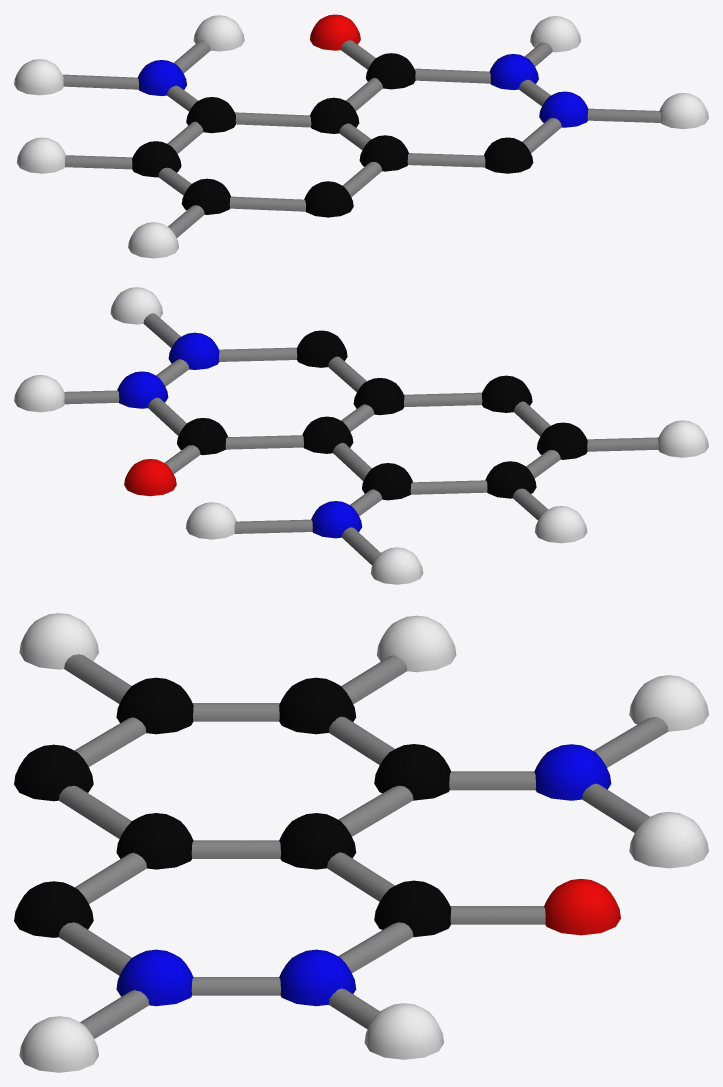
The model's file is Molecule.fbx.
The picture shows the model from 3 angles, top to bottom: view 1: azimuth 30°, elevation 25°; view 2: azimuth 150°, elevation 25°; view 3: azimuth 270°, elevation 25°; orthographic projection. The views are drawn at different scales.
Parts seen in each view (by area): view 1: Molecule; view 2: Molecule; view 3: Molecule.
Boxes of the visible parts, x1=… form: Molecule: x1=14, y1=14, x2=708, y2=258; Molecule: x1=14, y1=287, x2=708, y2=584; Molecule: x1=14, y1=613, x2=708, y2=1072.
Bounding box in the file's own units: 656 × 25.31 × 441.
